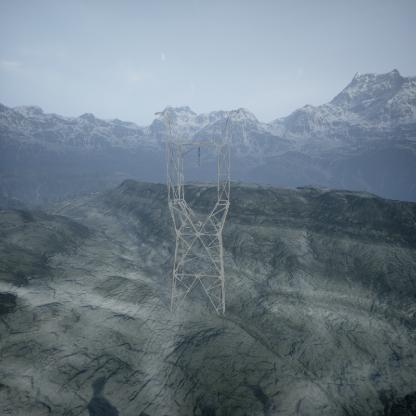tower: (152, 108, 236, 314)
